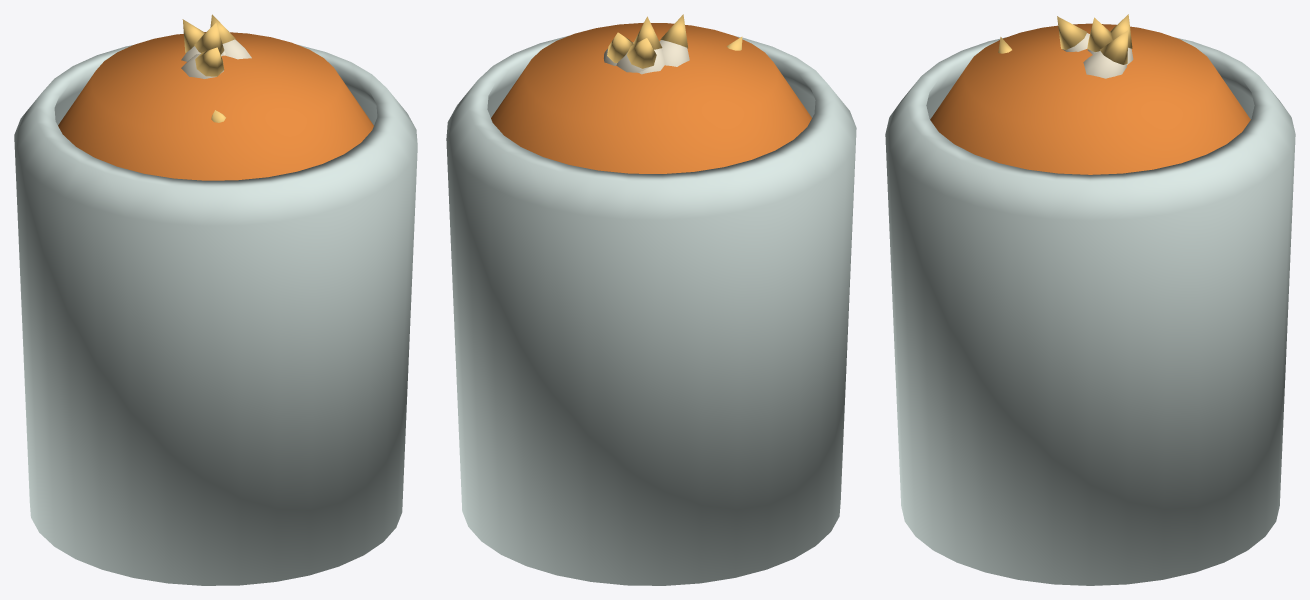
Rendered from candy_corn_jar.glb.
3 renders of one model, left to right at view 1: azimuth 30°, elevation 25°; view 2: azimuth 150°, elevation 25°; view 3: azimuth 270°, elevation 25°, orthographic.
Visible parts, largest first — view 1: LH_candy_corn_jar; view 2: LH_candy_corn_jar; view 3: LH_candy_corn_jar.
Boxes of the visible parts, x1,y1,x2,y2 form: LH_candy_corn_jar: [14, 14, 417, 585]; LH_candy_corn_jar: [446, 14, 856, 585]; LH_candy_corn_jar: [885, 14, 1295, 585].
Bounding box in the file's own units: 0.13 × 0.1712 × 0.13.
